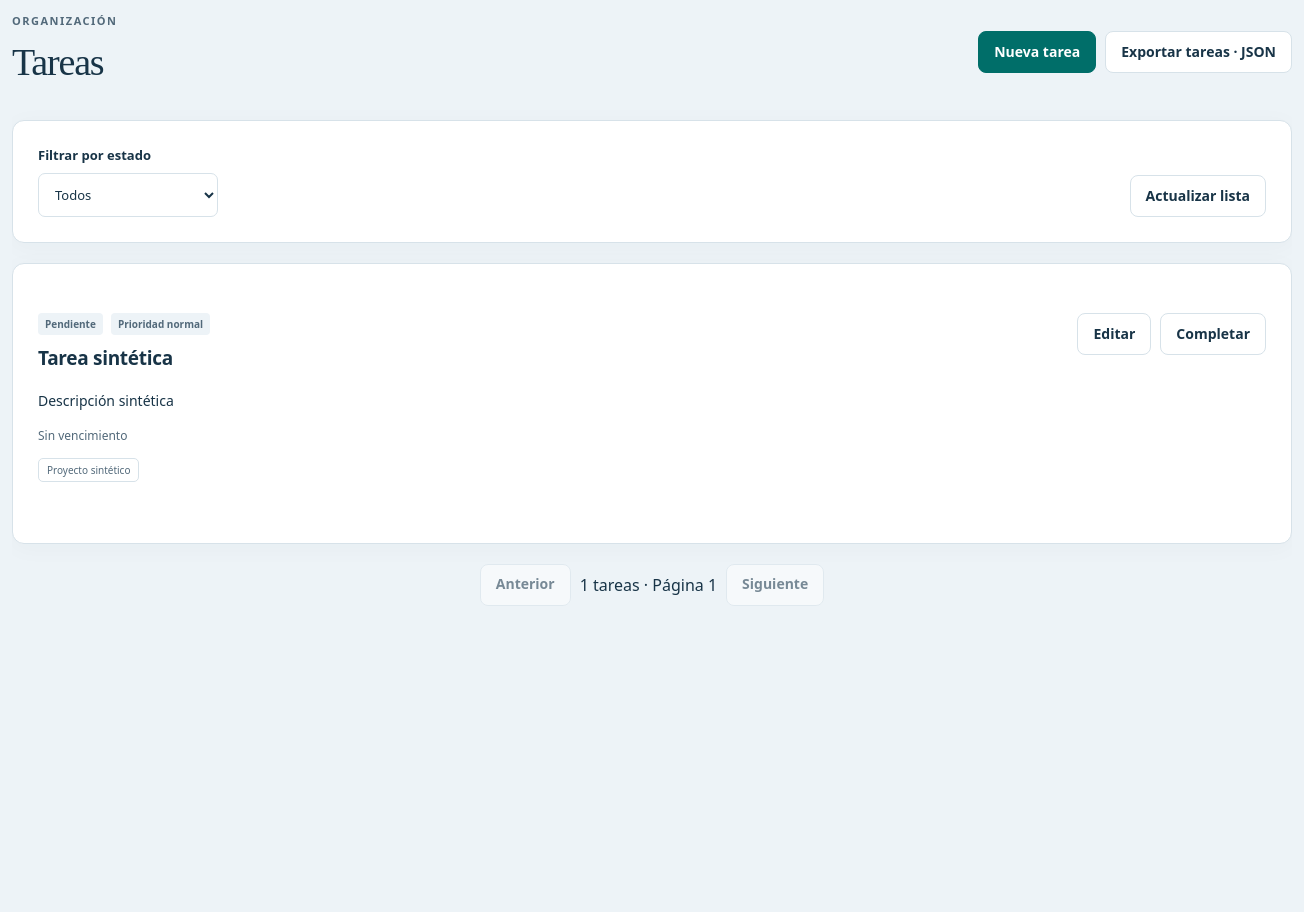
Scenario: Tareas V0.1 › edita con versión, conserva cambios tras conflicto y recarga explícitamente
Expected: the heading "Tarea sintética" is shown, [38,345,173,371]
Click the button "Editar" at point(1114, 334), box [1078,313,1151,355]
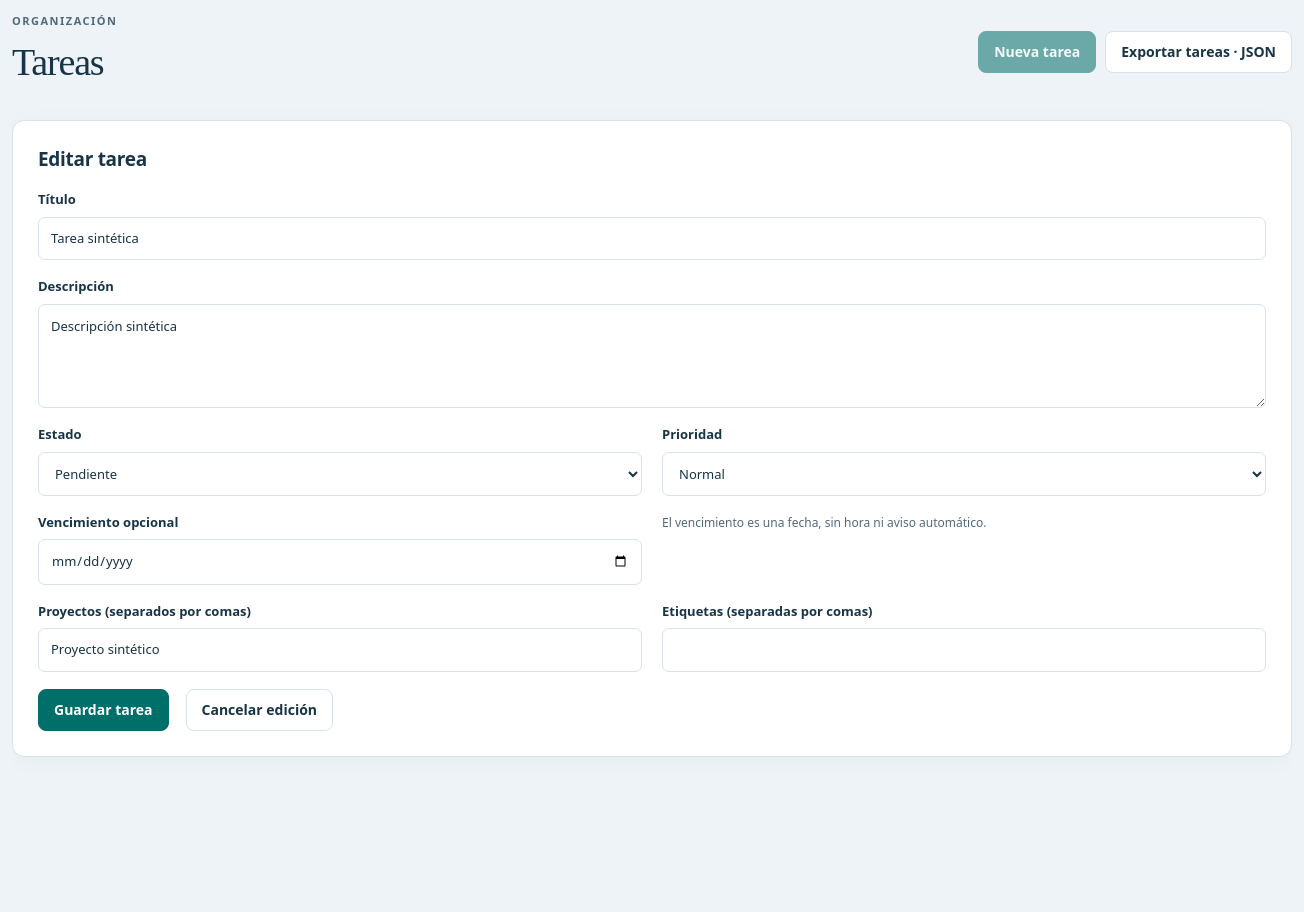
Replace the text in the field labelled "Título" with "Cambio pendiente" at point(652, 238), box [38,217,1266,260]
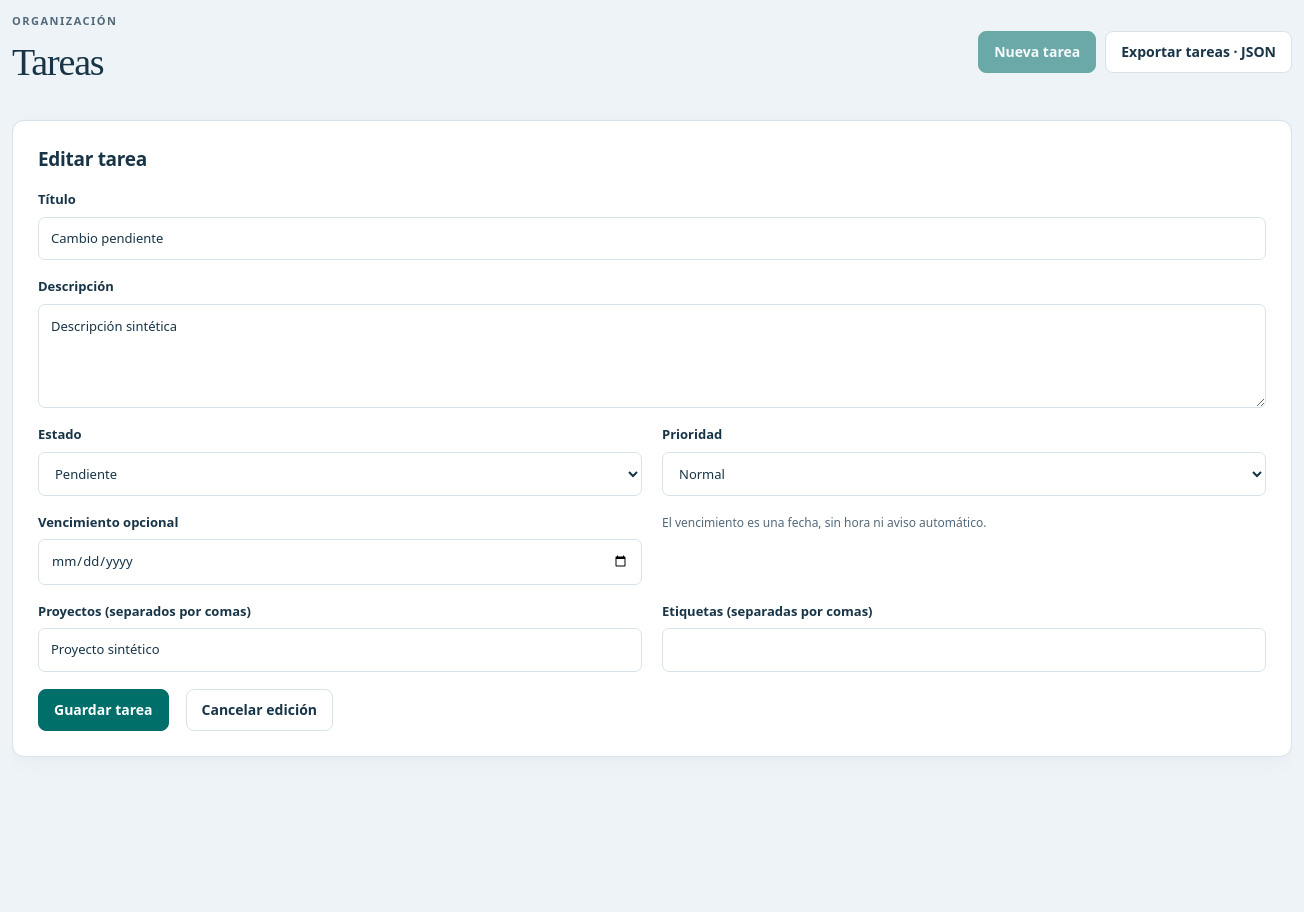
Click the button "Guardar tarea" at point(103, 710), box [38,689,168,731]
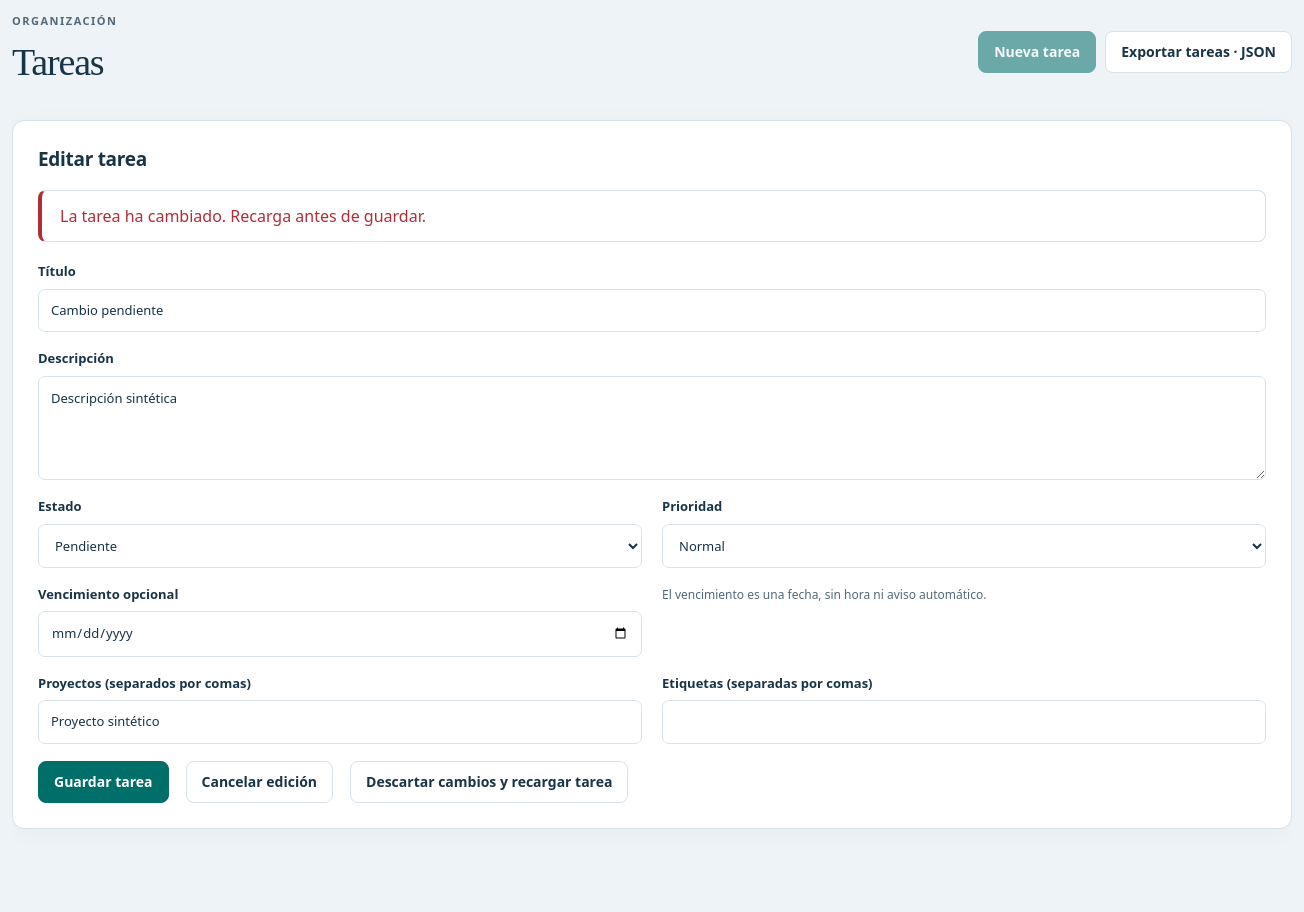
Expected: the message shows "La tarea ha cambiado", [60,205,426,227]
Click the button "Descartar cambios y recargar tarea" at point(489, 782), box [350,761,628,803]
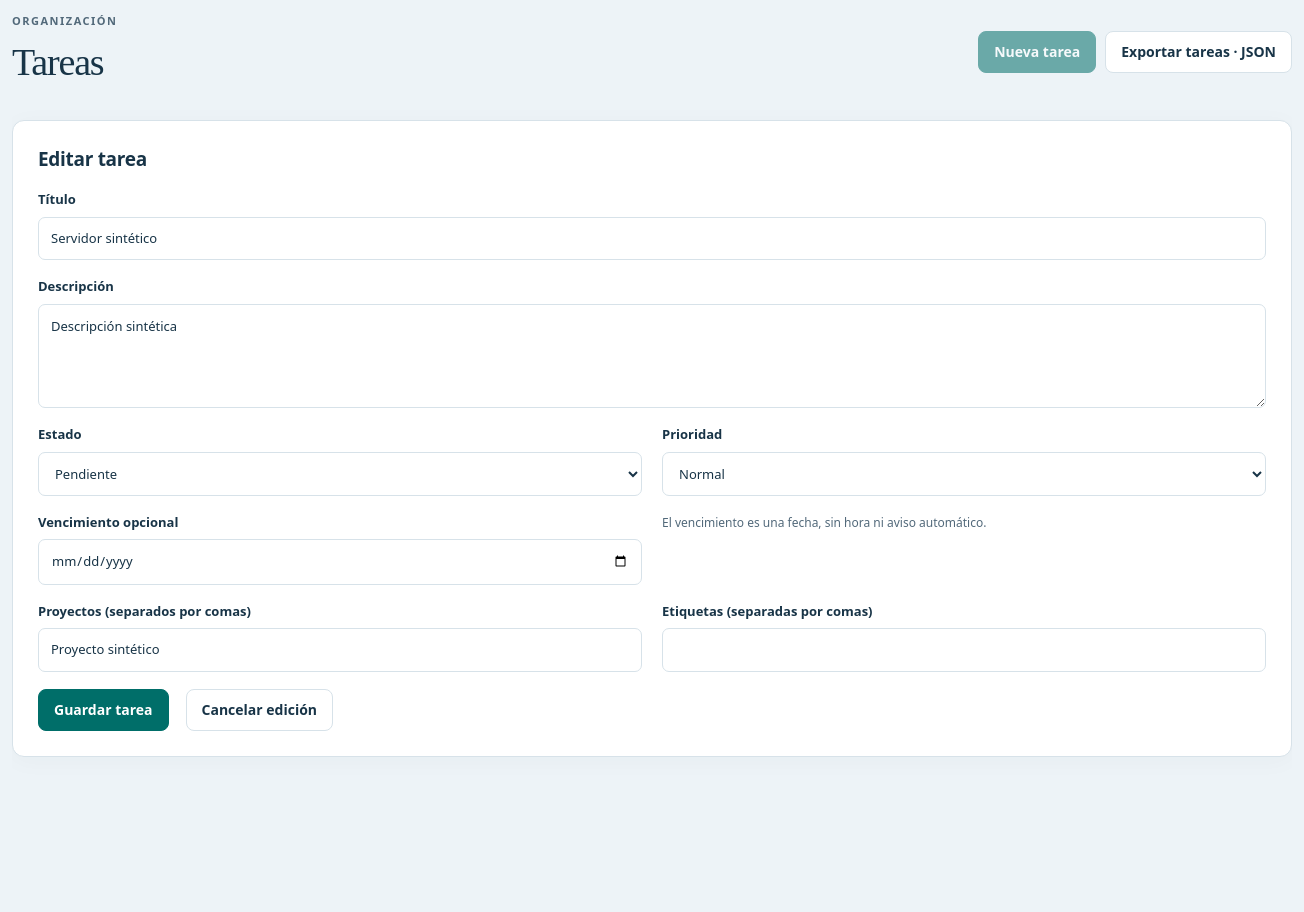
Expected: the field labelled "Título" holds "Servidor sintético", [38,217,1266,260]
Type "2026-12-31" into the date field labelled "Vencimiento opcional" at point(340, 562), box [38,539,642,585]
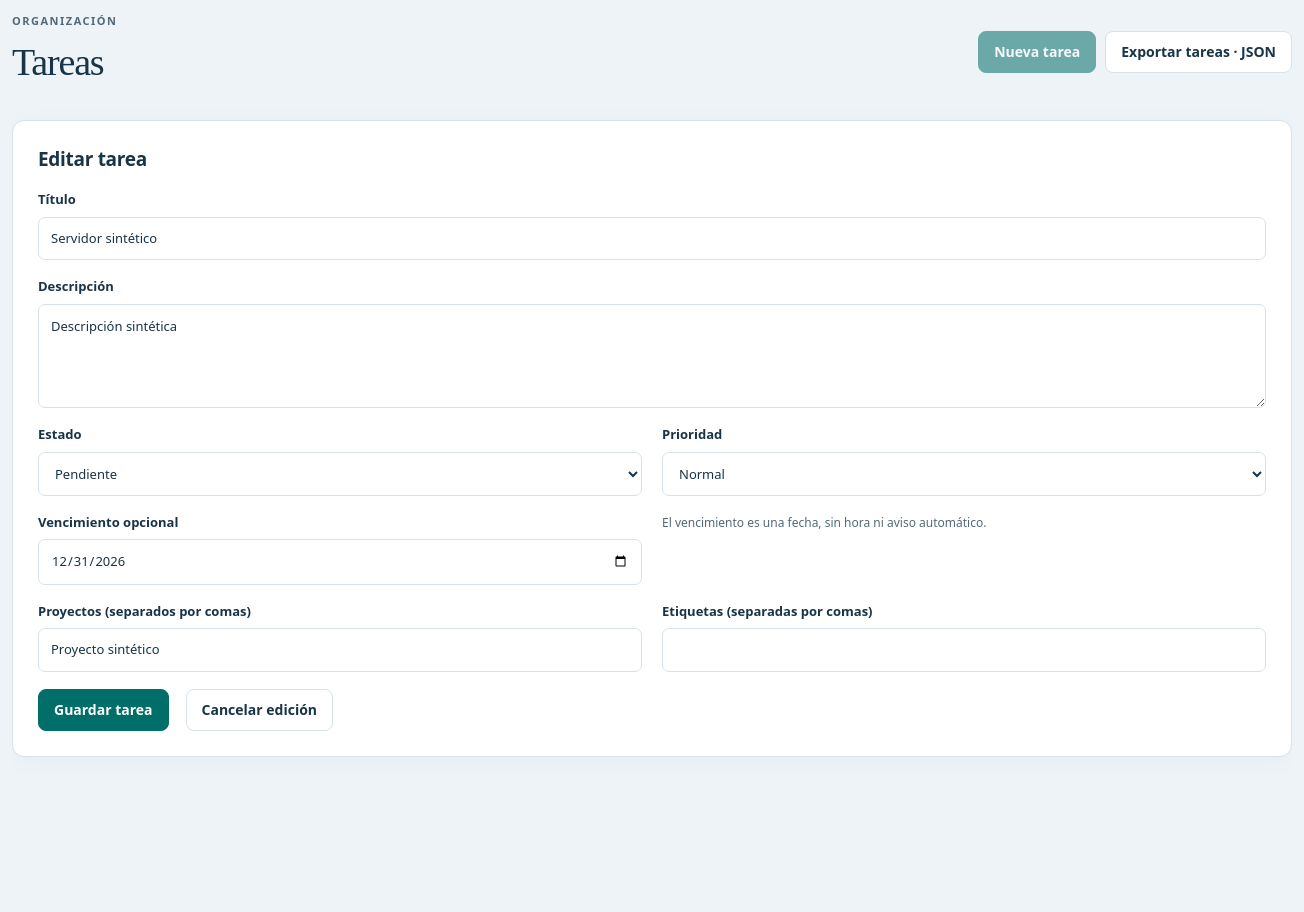
Click the button "Guardar tarea" at point(103, 710), box [38,689,168,731]
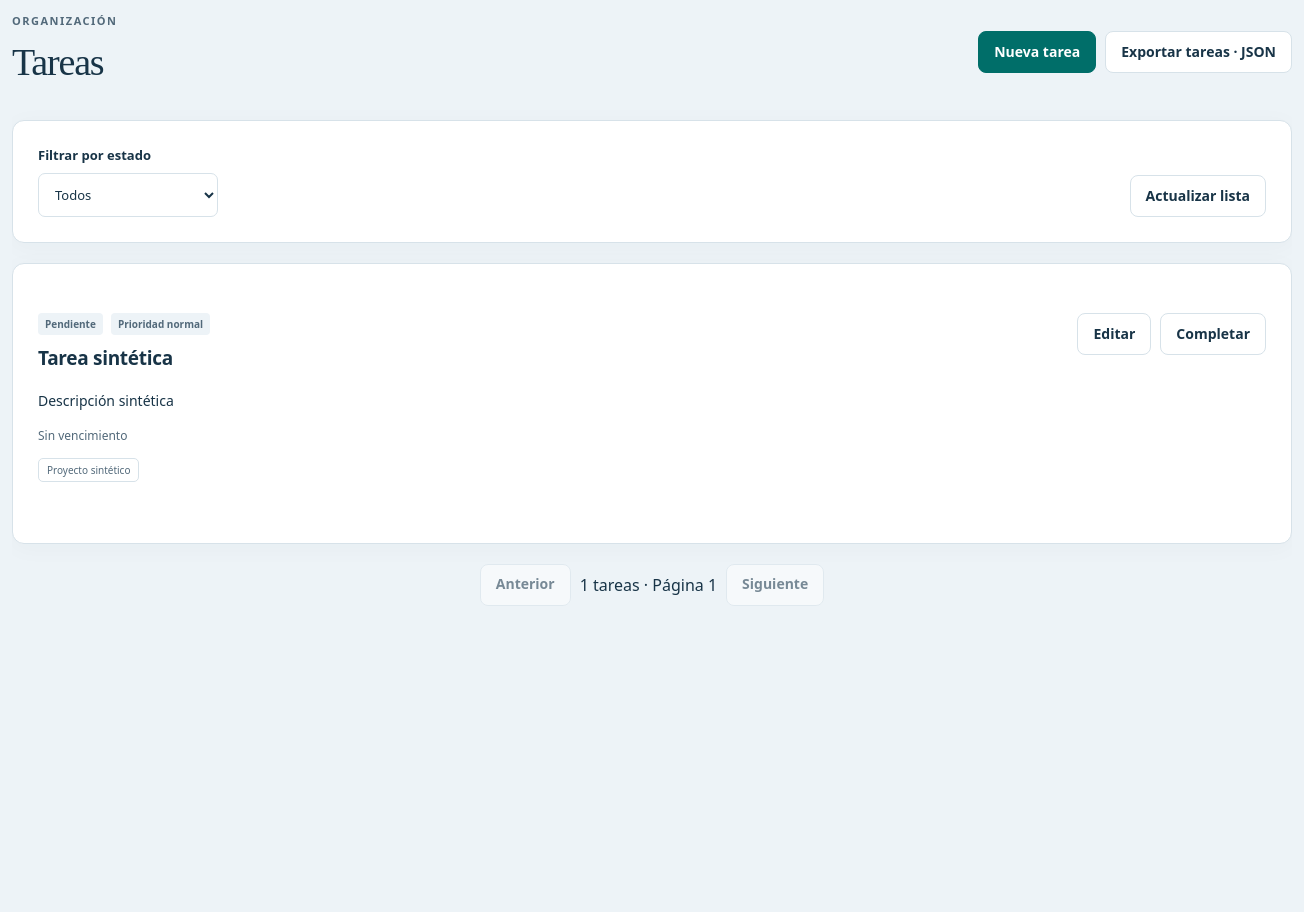
Expected: the heading "Tarea sintética" is shown, [38,345,173,371]
